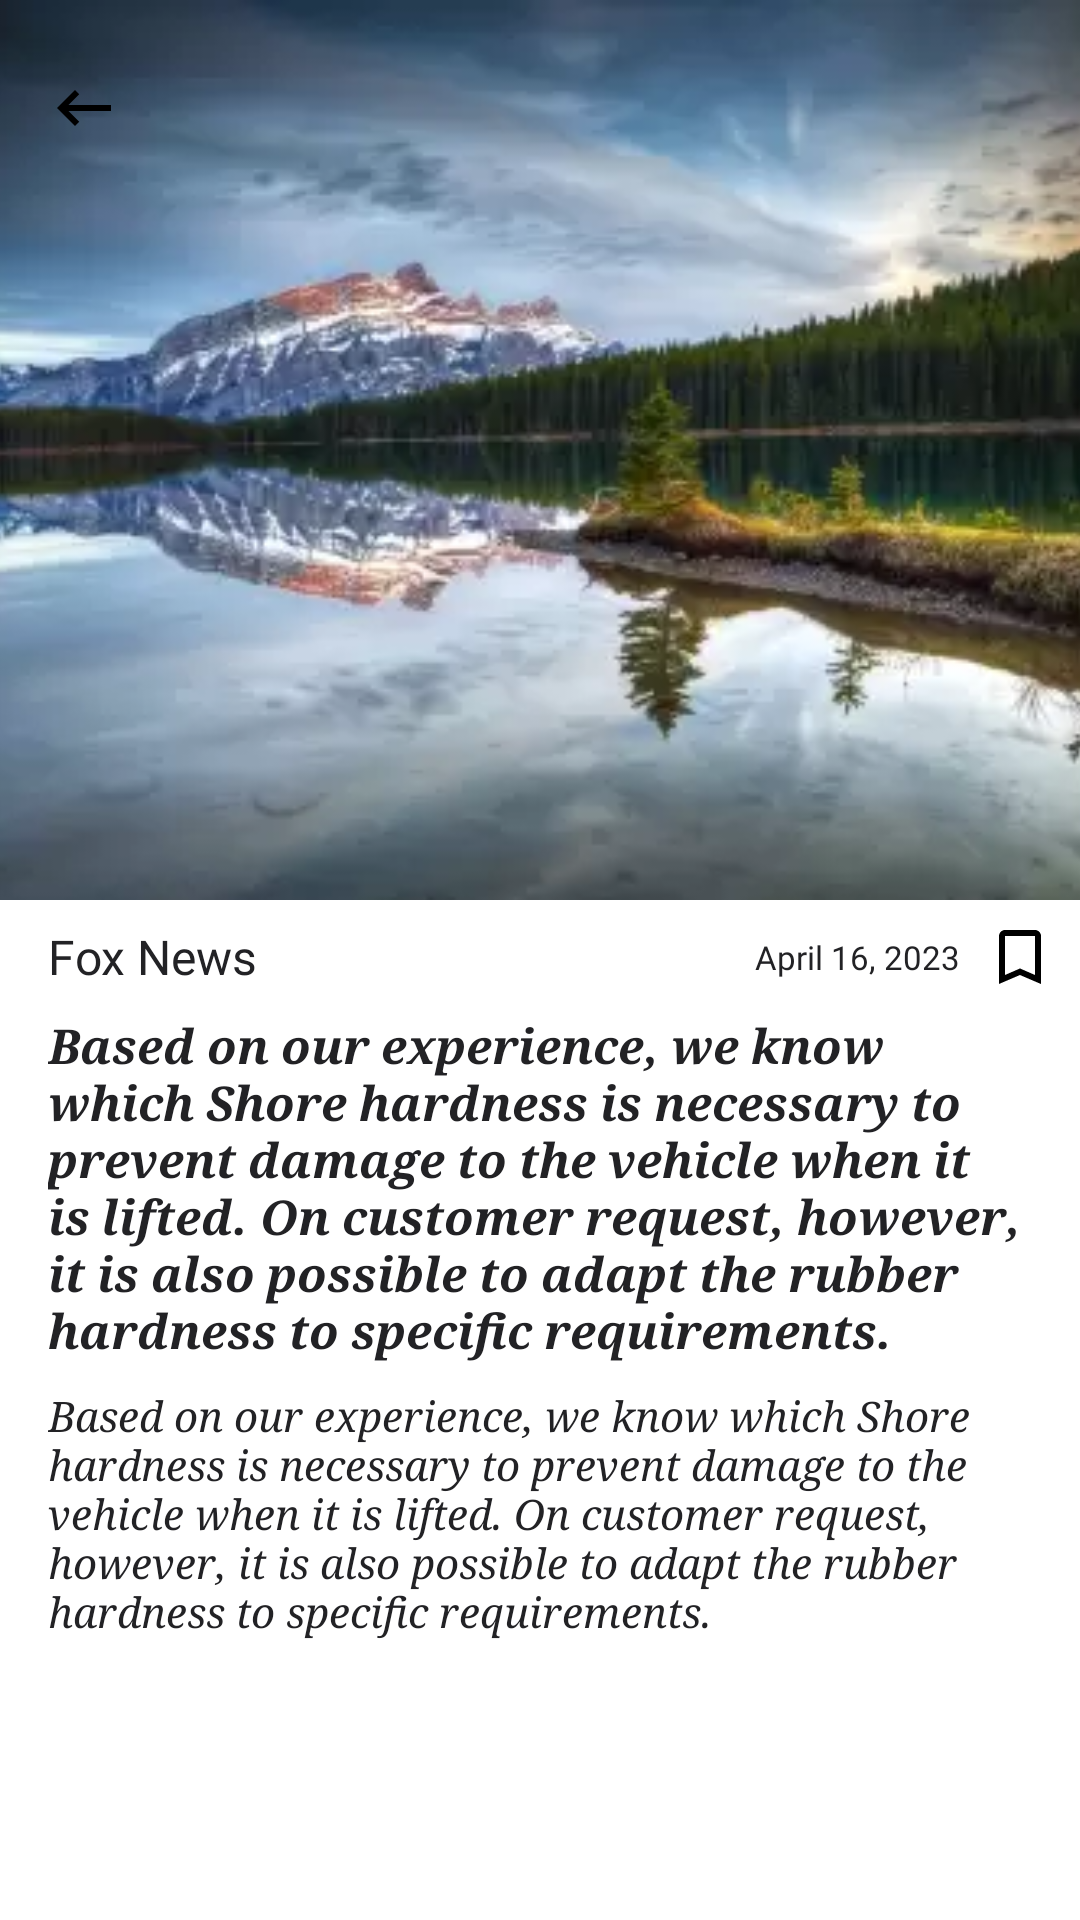

Icon click points for this 1080 x 1920 phone screenshot, format point (x, y):
back: point (84, 108)
bookmark: point (1020, 957)
